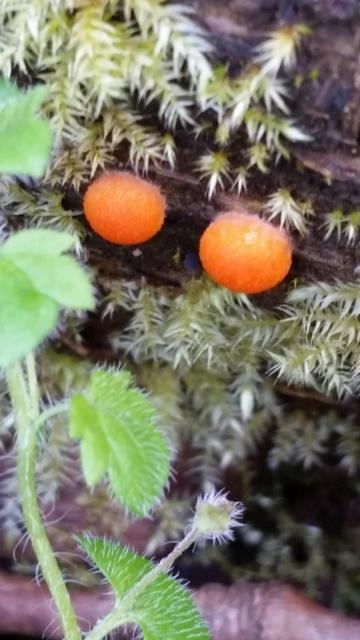poisonous_mushroom: (197, 209, 294, 295), (81, 168, 166, 246)
